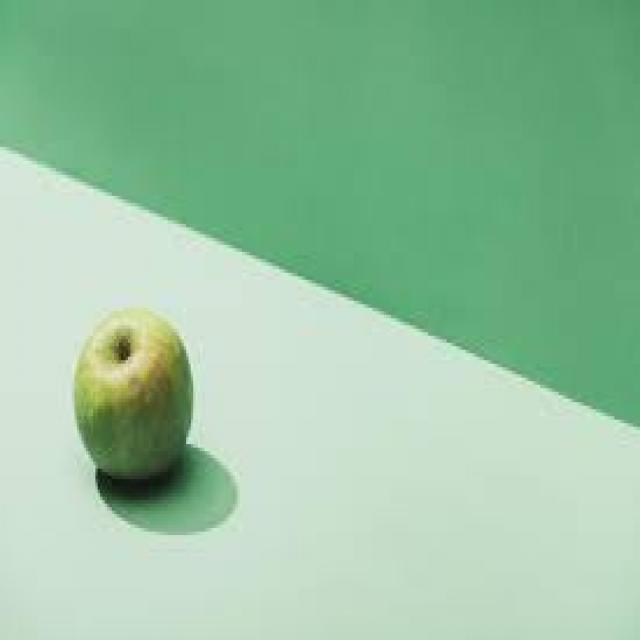Fresh Apple: (78, 313, 190, 502)
